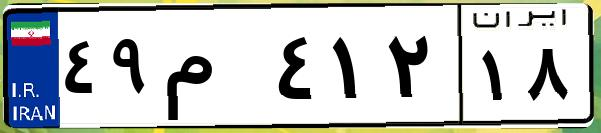1: (330, 28, 385, 110), (475, 38, 525, 113)
2: (385, 28, 445, 110)
4: (270, 28, 330, 110), (57, 26, 110, 100)
8: (525, 38, 570, 115)
9: (110, 28, 158, 98)
م: (158, 20, 270, 120)
